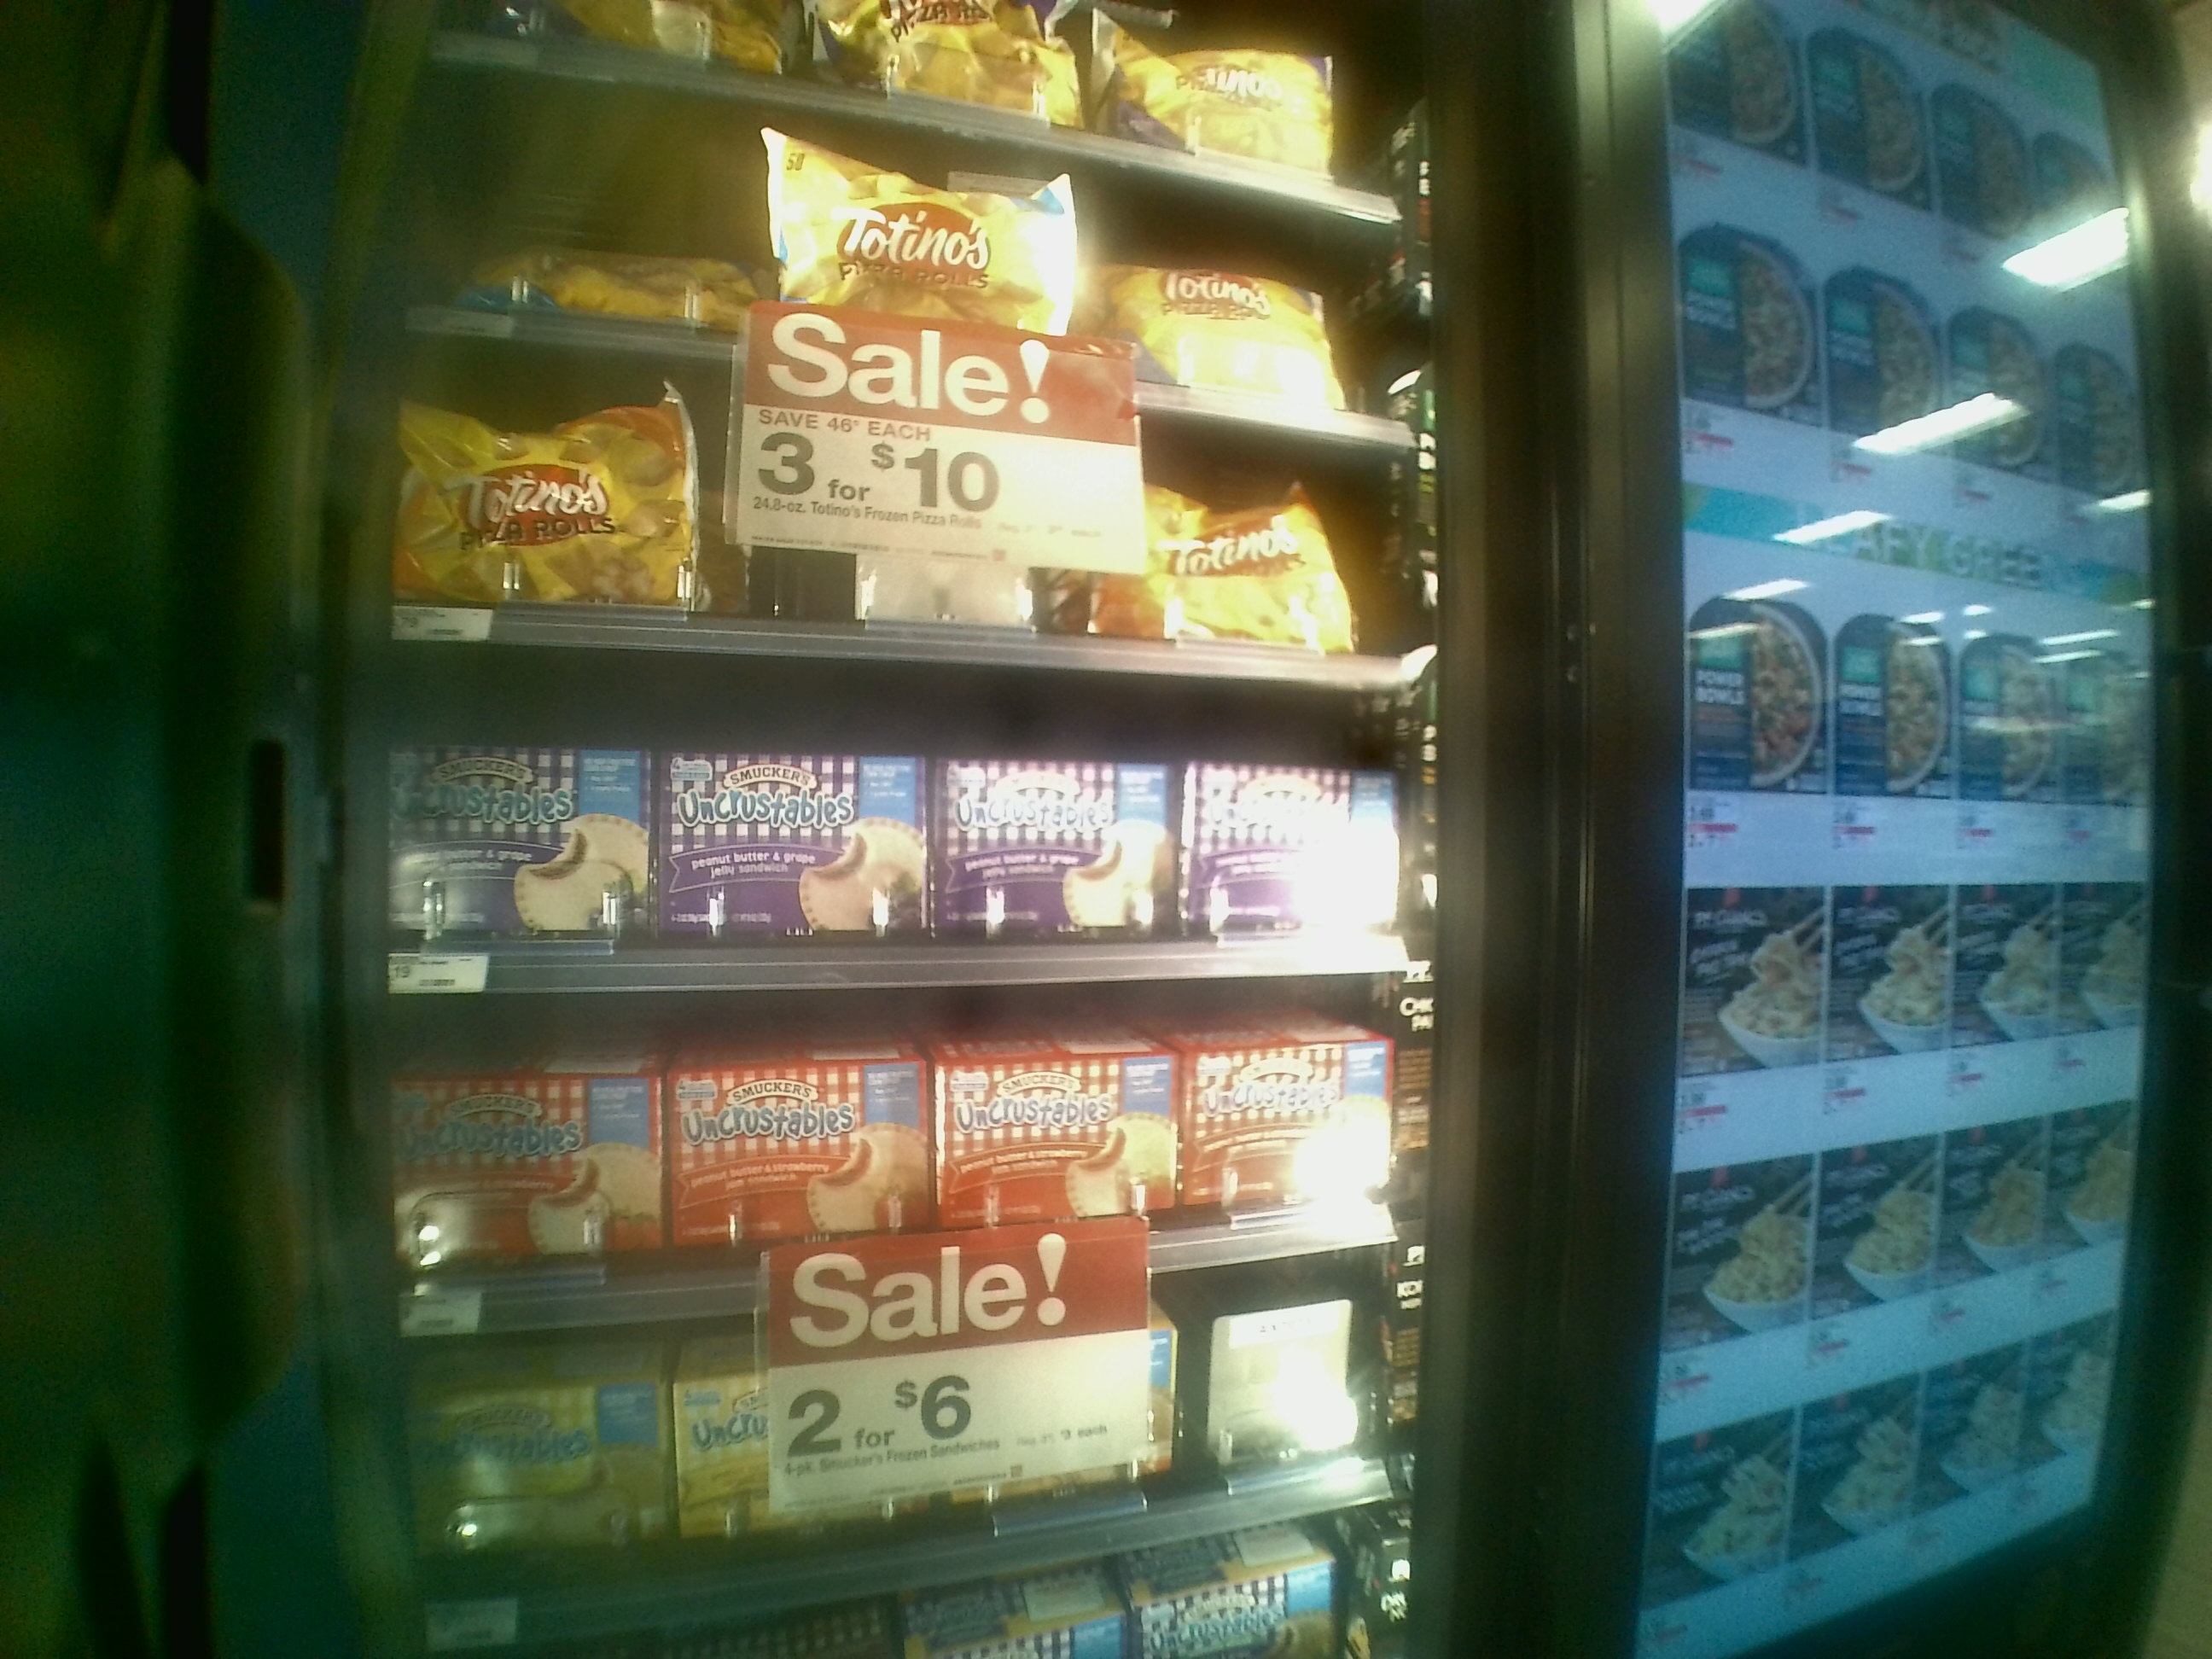shelf: (354, 633, 1407, 974), (387, 324, 1411, 664), (340, 978, 1428, 1286), (371, 1328, 1407, 1534)
